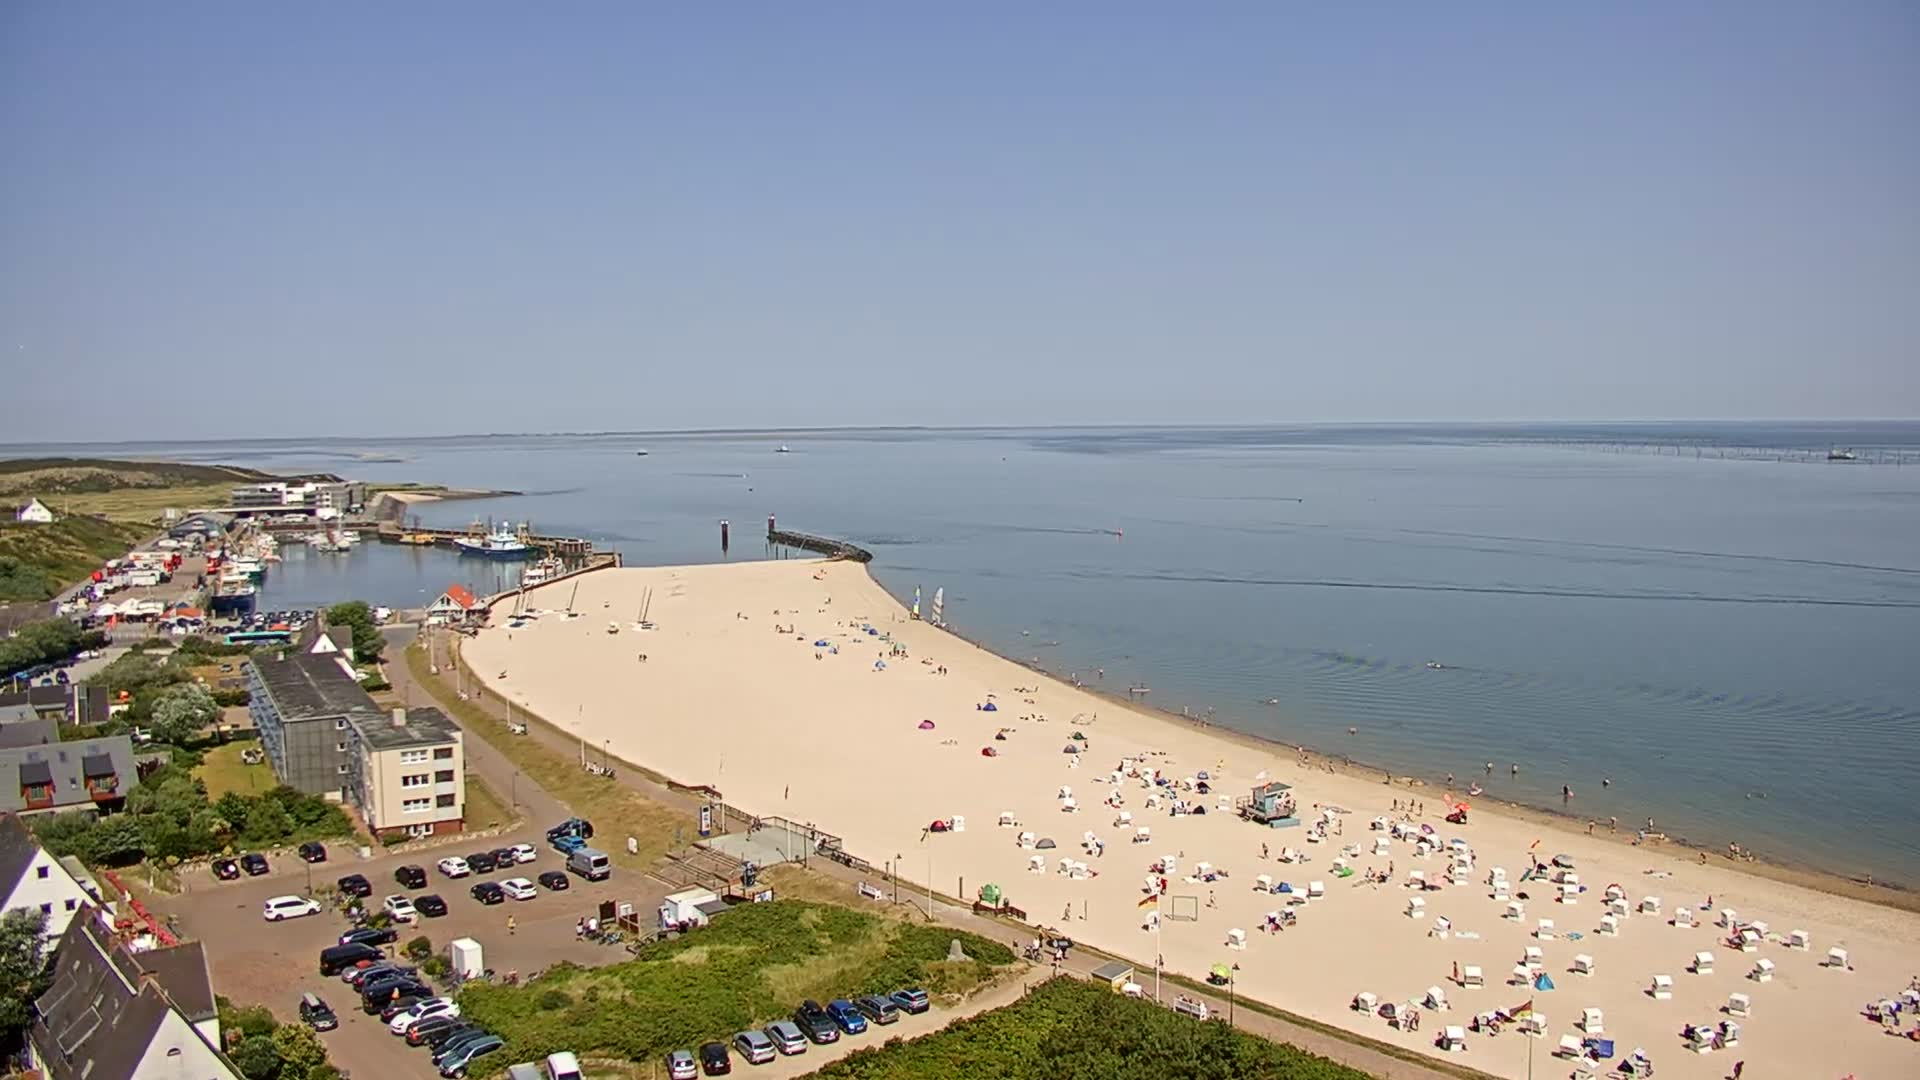human: (586, 913, 599, 940), (743, 862, 756, 886), (1732, 1058, 1745, 1079), (1053, 944, 1064, 969), (1728, 840, 1740, 860), (1206, 888, 1218, 909), (1905, 973, 1919, 991), (506, 914, 517, 936), (574, 922, 585, 940), (1031, 933, 1040, 957), (1061, 901, 1072, 920), (1434, 1031, 1445, 1049), (1037, 923, 1044, 946), (1610, 814, 1620, 832), (1451, 961, 1460, 980), (804, 821, 813, 839), (1365, 865, 1375, 880), (810, 820, 817, 839), (1160, 876, 1168, 894), (1485, 760, 1494, 775), (1413, 1011, 1421, 1030), (1262, 841, 1270, 858), (977, 886, 985, 903), (753, 813, 761, 830), (993, 883, 1001, 900), (1588, 818, 1595, 834), (1561, 783, 1570, 796), (1170, 803, 1177, 817), (1012, 938, 1019, 952), (1387, 859, 1394, 875), (1178, 991, 1188, 1002), (1380, 869, 1388, 881), (1447, 771, 1454, 784), (1866, 873, 1873, 889), (1646, 816, 1654, 829), (1699, 851, 1706, 864), (1745, 846, 1752, 860), (1328, 759, 1335, 774), (1706, 894, 1713, 908), (1638, 826, 1645, 840), (1603, 776, 1611, 787), (745, 826, 752, 839), (1418, 801, 1424, 814), (1511, 762, 1518, 775), (576, 915, 586, 924), (476, 686, 482, 698), (1409, 798, 1415, 809), (892, 643, 897, 655), (900, 648, 907, 656), (827, 595, 832, 605), (736, 610, 741, 620), (943, 666, 948, 675), (937, 664, 943, 674), (1392, 797, 1397, 809), (896, 648, 900, 655)
land: (389, 994, 461, 1035), (437, 1034, 504, 1078), (318, 942, 387, 976), (404, 1016, 472, 1047), (793, 997, 837, 1043), (361, 985, 434, 1013), (429, 1029, 486, 1063), (351, 963, 411, 991), (264, 893, 323, 922), (299, 991, 339, 1033), (826, 998, 869, 1035), (731, 1030, 776, 1064), (564, 846, 611, 880), (360, 972, 423, 996), (763, 1019, 807, 1054), (853, 995, 901, 1025), (341, 958, 393, 982), (379, 994, 427, 1021), (698, 1041, 730, 1076), (888, 986, 930, 1014), (547, 1049, 585, 1079), (337, 925, 396, 944), (546, 817, 594, 841), (381, 892, 418, 922), (226, 630, 292, 646), (664, 1048, 698, 1079), (495, 876, 536, 899), (394, 863, 428, 890), (338, 873, 373, 898), (467, 879, 503, 904), (437, 854, 471, 878), (414, 893, 449, 917), (551, 834, 589, 855), (211, 856, 241, 881), (297, 840, 329, 864), (240, 852, 270, 876), (536, 871, 570, 891), (464, 852, 493, 874), (485, 847, 514, 869), (507, 843, 537, 863), (105, 557, 123, 577), (24, 663, 50, 676), (75, 649, 100, 660), (54, 670, 70, 684), (51, 659, 73, 668), (14, 671, 30, 682), (39, 676, 53, 688), (177, 616, 190, 626), (159, 619, 172, 629), (1, 674, 13, 684), (290, 622, 300, 631), (221, 624, 233, 632), (254, 621, 264, 630), (254, 612, 264, 621), (242, 612, 252, 621), (305, 609, 315, 617), (191, 617, 202, 625), (267, 611, 275, 618), (240, 619, 249, 627), (279, 617, 289, 625), (208, 625, 219, 632), (295, 615, 304, 621), (279, 609, 288, 616), (227, 614, 236, 620), (291, 609, 298, 615)
sea: (450, 513, 542, 558), (517, 536, 569, 590), (208, 557, 255, 612), (224, 543, 267, 579), (499, 592, 527, 629), (561, 578, 585, 620), (333, 499, 352, 550), (507, 586, 533, 621), (928, 584, 947, 627), (905, 581, 924, 619), (642, 584, 660, 627), (524, 583, 542, 615), (398, 531, 437, 546), (1826, 443, 1856, 460), (641, 583, 649, 623), (341, 529, 363, 543), (1129, 681, 1153, 692), (775, 441, 791, 452), (1425, 661, 1442, 669)
